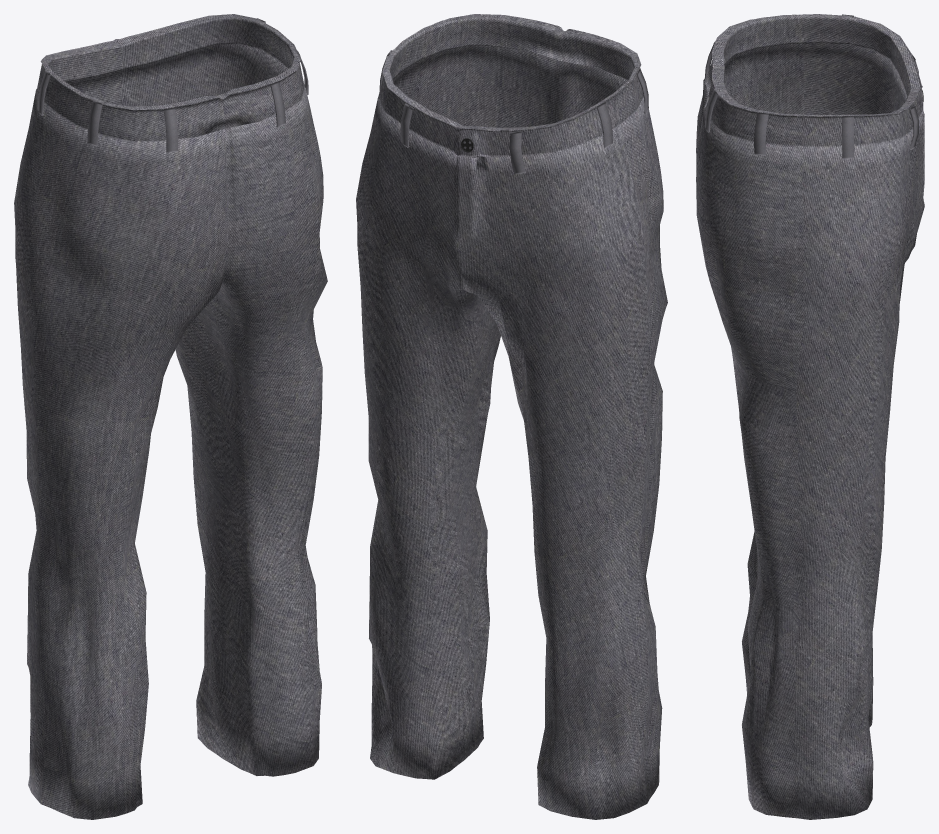
File: pants.fbx
The picture shows the model from 3 angles, left to right: view 1: azimuth 30°, elevation 25°; view 2: azimuth 150°, elevation 25°; view 3: azimuth 270°, elevation 25°; orthographic projection. The views are drawn at different scales.
Parts seen in each view (by area): view 1: pants(exterior).001, pants(interior), belt loops; view 2: pants(exterior).001, pants(interior), belt loops; view 3: pants(exterior).001, pants(interior), belt loops.
Boxes of the visible parts, x1,y1,x2,y2 form: pants(exterior).001: [14, 14, 327, 819]; pants(interior): [41, 14, 299, 110]; belt loops: [37, 18, 308, 152]; pants(exterior).001: [356, 14, 667, 819]; pants(interior): [383, 14, 640, 131]; belt loops: [379, 20, 648, 173]; pants(exterior).001: [696, 14, 924, 819]; pants(interior): [713, 14, 920, 116]; belt loops: [704, 14, 918, 158].
Bounding box in the file's own units: 149 × 365 × 109.
2 materials, 1 textured.
